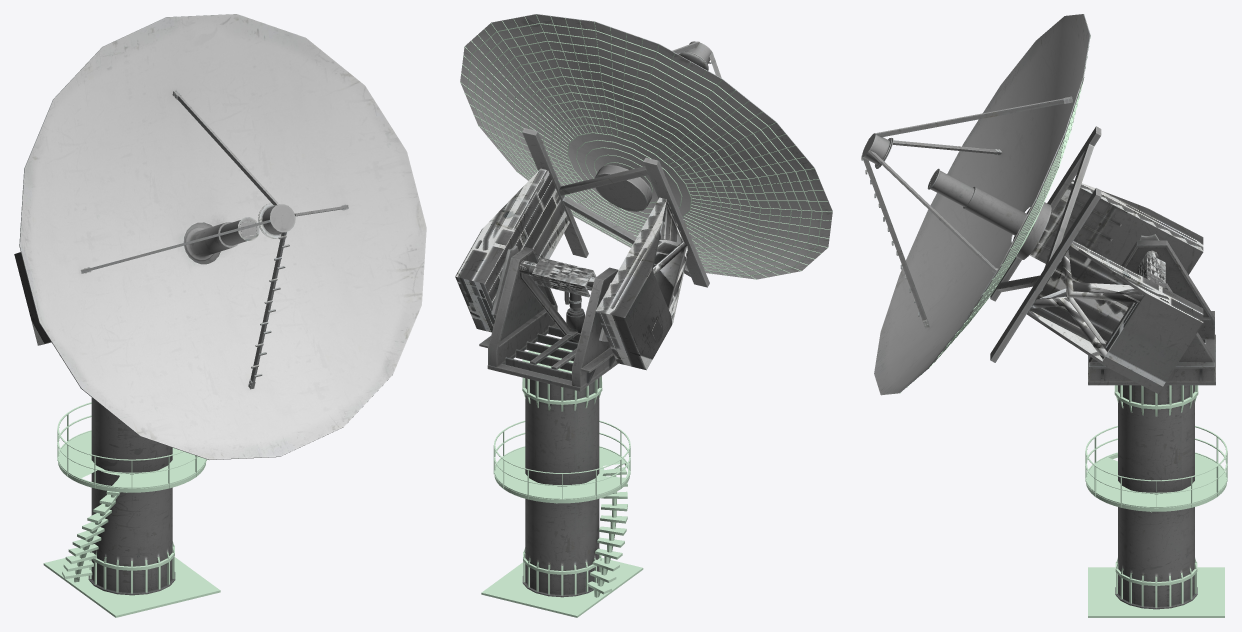
Rendered from starFinder.obj.
3 views of the same model, side by side, from view 1: azimuth 30°, elevation 25°; view 2: azimuth 150°, elevation 25°; view 3: azimuth 270°, elevation 25° (orthographic). The views are drawn at different scales.
Parts seen in each view (by area): view 1: AM84_027_09_Mesh.002_AM84_027_09_Mesh.003; view 2: AM84_027_09_Mesh.002_AM84_027_09_Mesh.003; view 3: AM84_027_09_Mesh.002_AM84_027_09_Mesh.003.
Boxes of the visible parts, x1=… form: AM84_027_09_Mesh.002_AM84_027_09_Mesh.003: x1=14, y1=14, x2=426, y2=617; AM84_027_09_Mesh.002_AM84_027_09_Mesh.003: x1=455, y1=14, x2=832, y2=617; AM84_027_09_Mesh.002_AM84_027_09_Mesh.003: x1=861, y1=14, x2=1227, y2=617.
Size of the model in its own units: 0.5945 by 0.8608 by 0.5117.
Materials: 3 (2 with a texture image).
